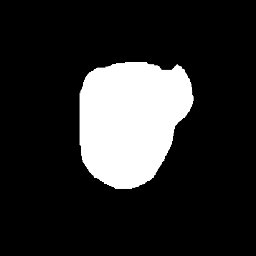mass: (83, 67, 198, 190)
